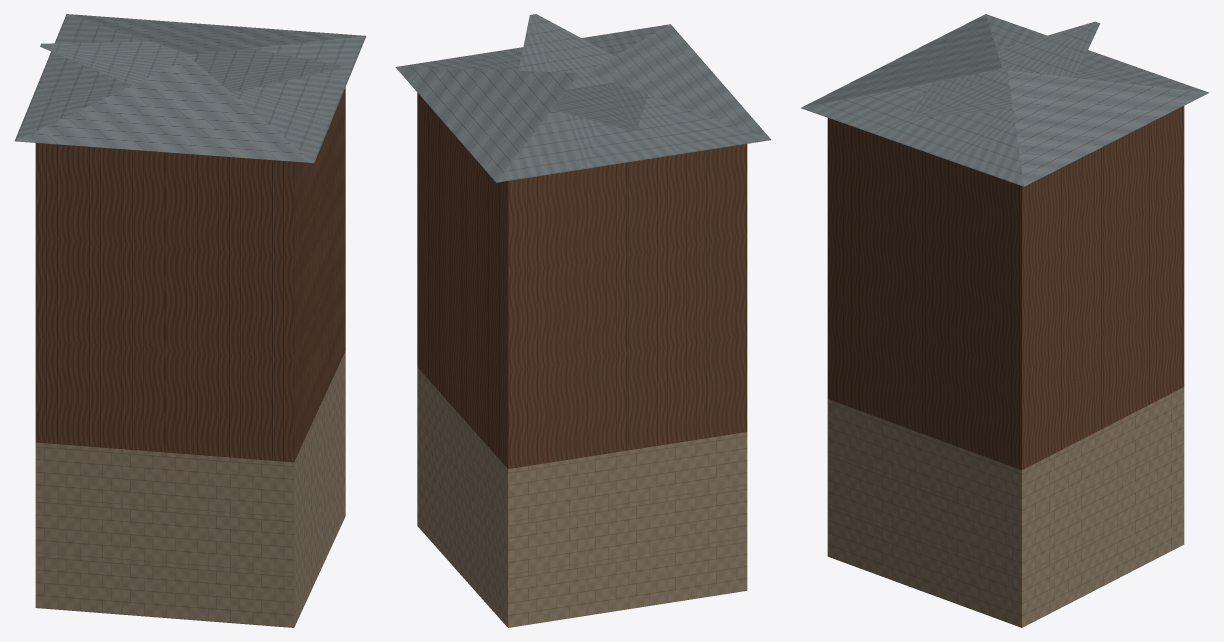
File: bld_c10_15_456.gltf
3 renders of one model, left to right at view 1: azimuth 30°, elevation 25°; view 2: azimuth 150°, elevation 25°; view 3: azimuth 270°, elevation 25°, orthographic. The views are drawn at different scales.
Visible parts, largest first — view 1: bld_c10_15_456; view 2: bld_c10_15_456; view 3: bld_c10_15_456.
Part boxes in pixels (x1,y1,x2,y2): bld_c10_15_456: (15, 14, 366, 627); bld_c10_15_456: (395, 14, 770, 627); bld_c10_15_456: (801, 14, 1209, 627).
Size of the model in its own units: 12 by 15.6 by 12.
Materials: 3 (3 with a texture image).
